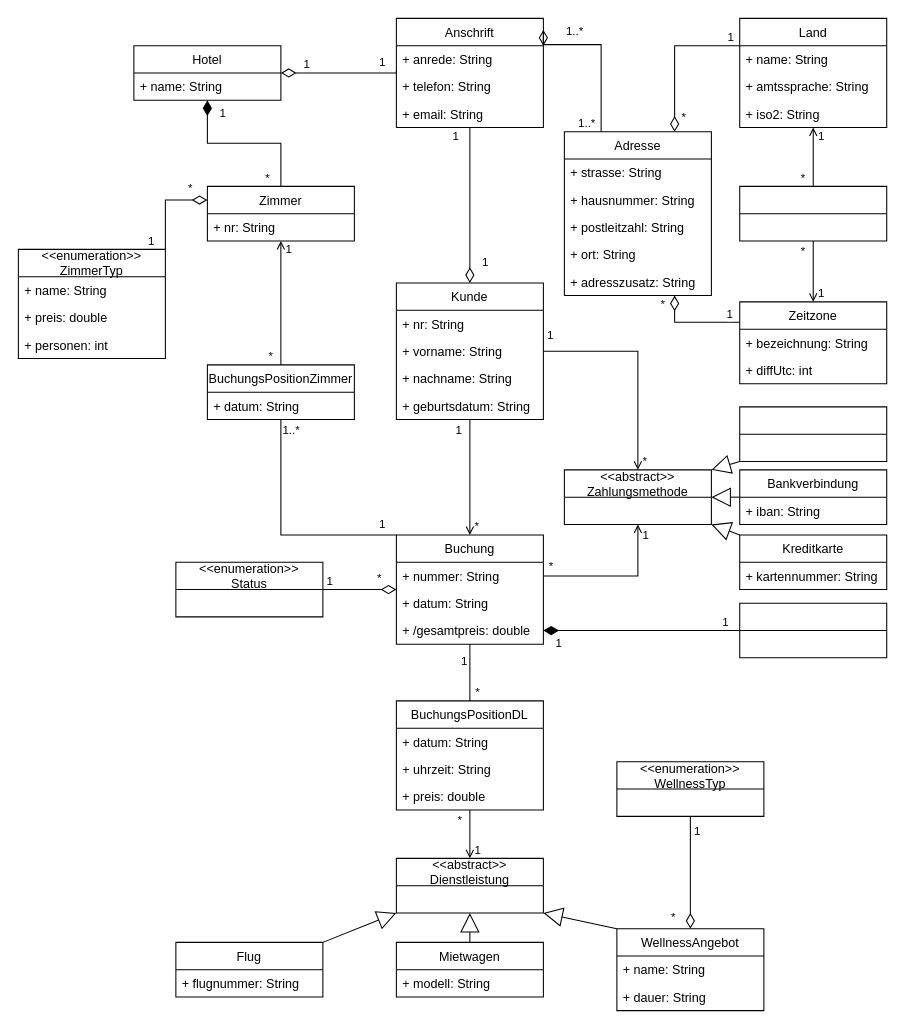
Image size: 905x1032. Some labels were removed from this diagram. The shapes that lost their labels are listed below. From the top down, each one's centre as x and y in pixels, then its label:
point 813,213: LandZeitzone
point 813,433: Barzahlung
point 813,630: Rechnung
